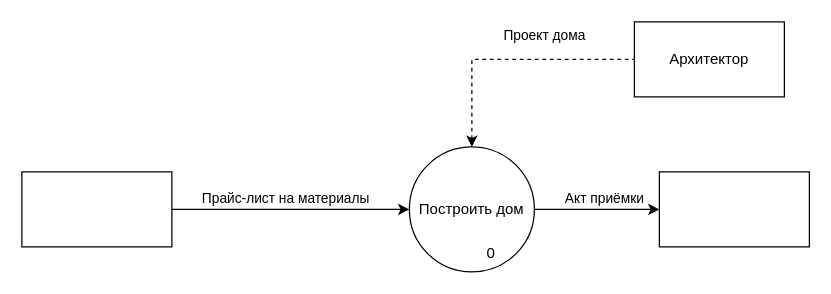
Some shapes in this 831 by 294 pixel diagram are drawn without their labels. Here are the shapes that lost their labels. From the top down, the centre of each, then its label:
At (x=96, y=209): "Строительный магазин".
At (x=733, y=209): "Заказчик".
